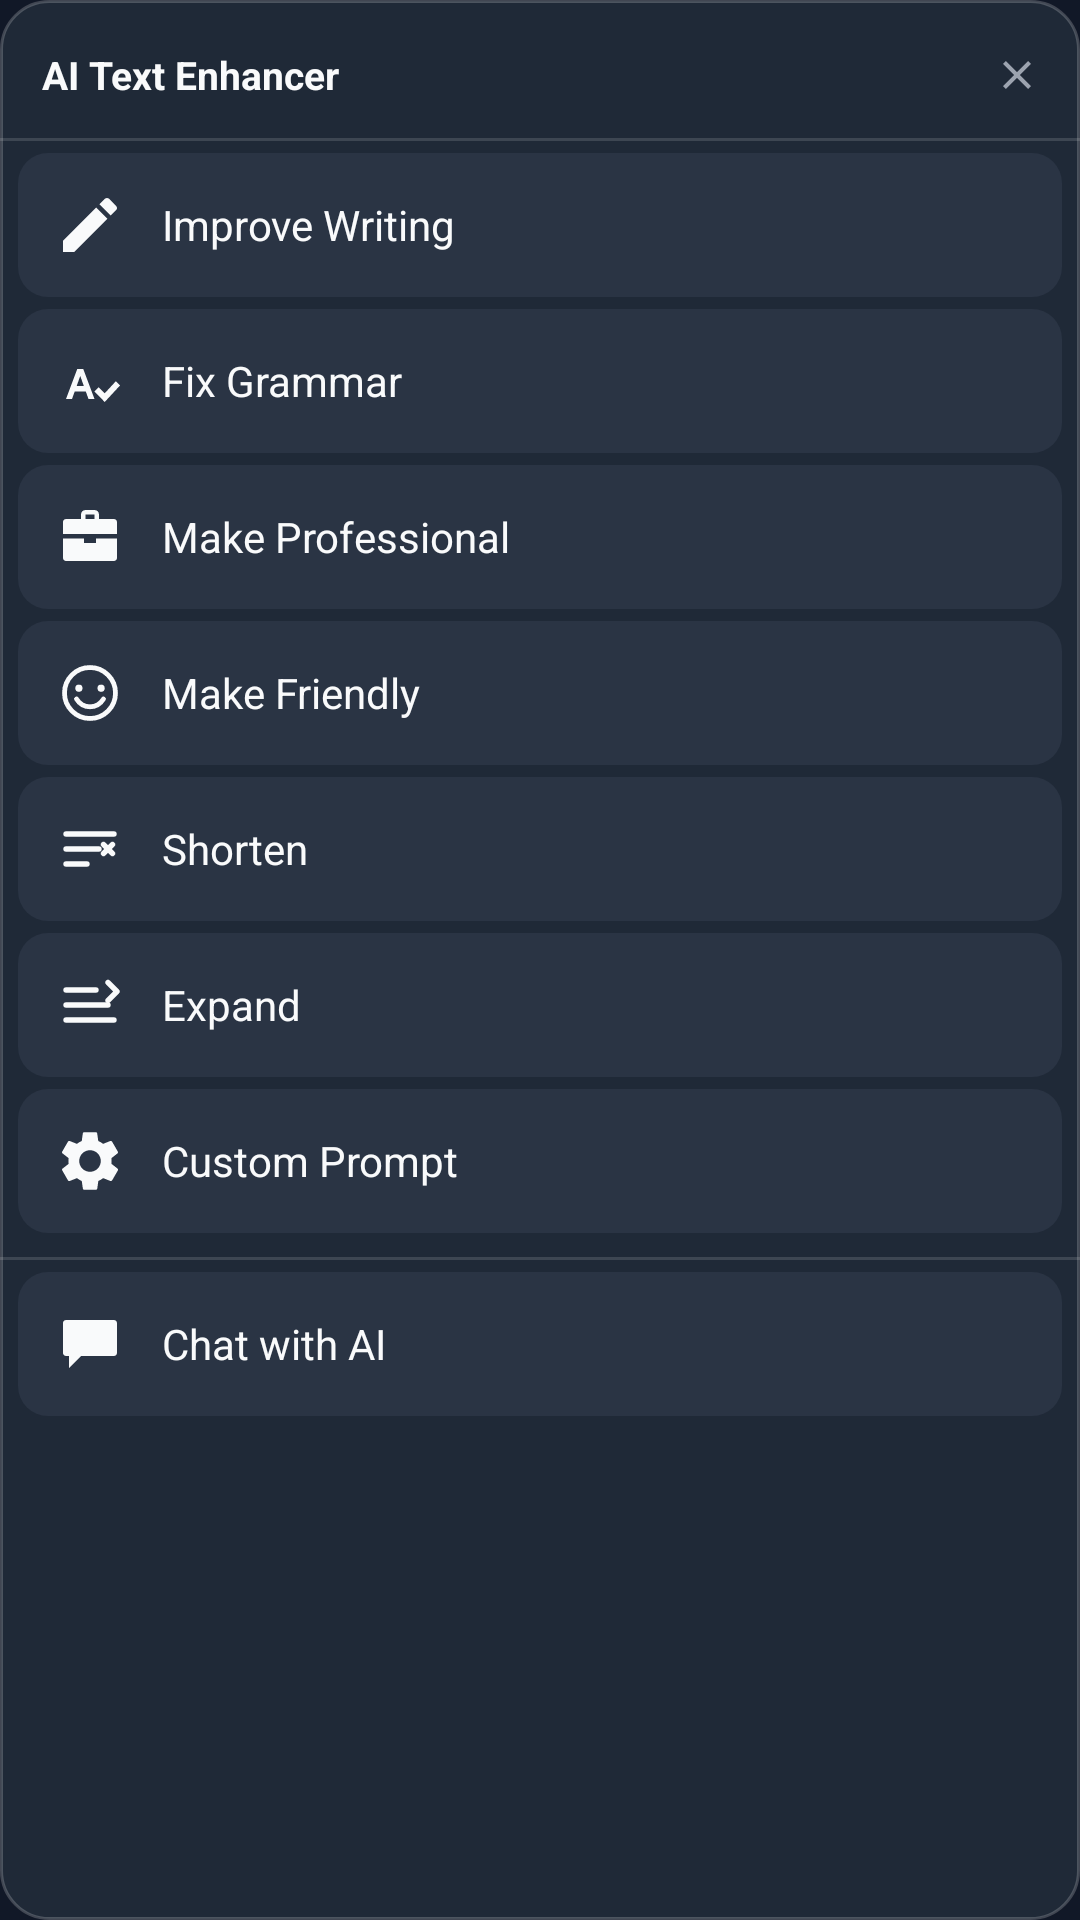

Named icons in this screenshot (1080x1920) and their bounding boxes, box(x1, y1, x2, y2):
close: box(1003, 61, 1031, 89)
